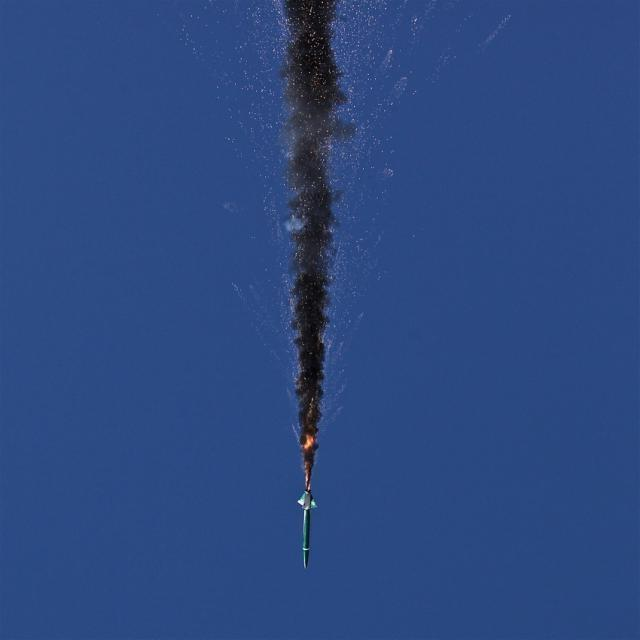missile: (298, 487, 320, 571)
